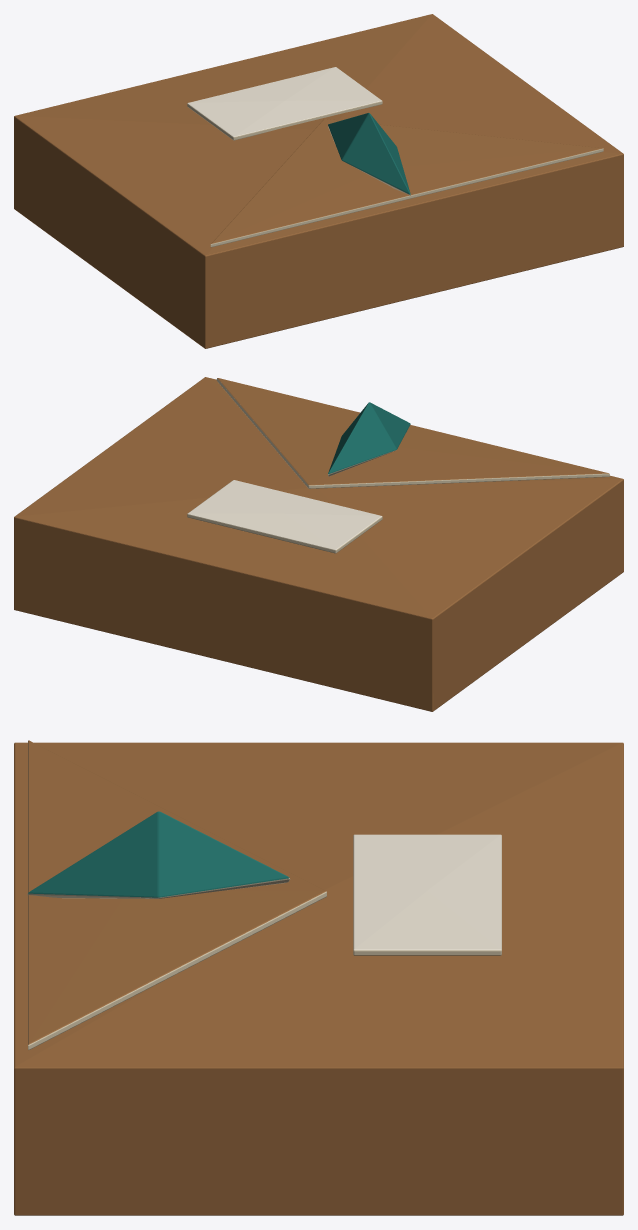
File: achievement-bronze-badge.glb
The picture shows the model from 3 angles, top to bottom: view 1: azimuth 30°, elevation 25°; view 2: azimuth 150°, elevation 25°; view 3: azimuth 270°, elevation 25°; orthographic projection. The views are drawn at different scales.
Visible parts, largest first — view 1: achievement-bronze-badge; view 2: achievement-bronze-badge; view 3: achievement-bronze-badge.
Part boxes in pixels (left/top/right/bottom): achievement-bronze-badge: left=14, top=14, right=623, bottom=348; achievement-bronze-badge: left=14, top=377, right=623, bottom=711; achievement-bronze-badge: left=14, top=740, right=623, bottom=1215.
Bounding box in the file's own units: 1.35 × 0.4671 × 1.07.
